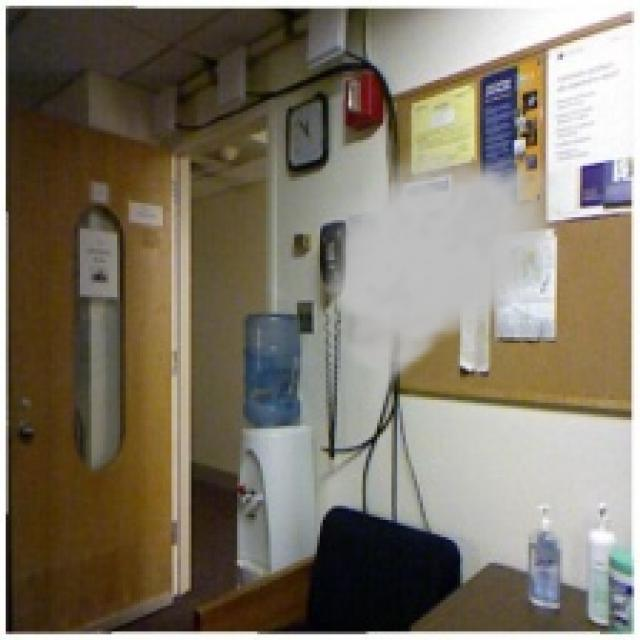Smoke: (314, 143, 572, 426)
